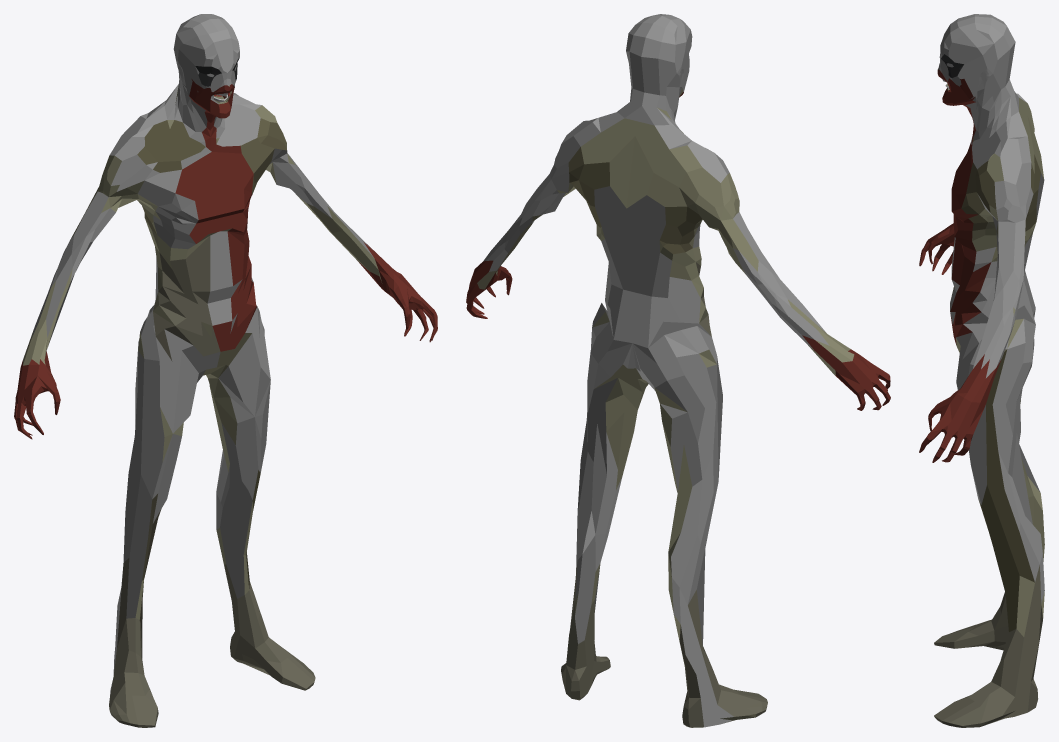
Rendered from ZOMBIV2.fbx.
3 views of the same model, side by side, from view 1: azimuth 30°, elevation 25°; view 2: azimuth 150°, elevation 25°; view 3: azimuth 270°, elevation 25° (orthographic).
Parts seen in each view (by area): view 1: 2; view 2: 2; view 3: 2.
Boxes of the visible parts, x1,y1,x2,y2 form: 2: (14,14,437,727); 2: (466,14,890,727); 2: (919,14,1044,727).
Bounding box in the file's own units: 4661 × 7204 × 1234.
Materials: 1 (1 with a texture image).
